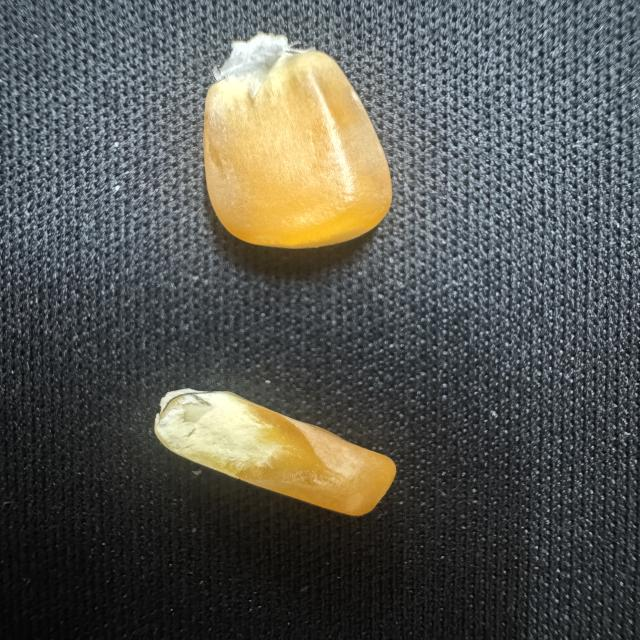Bad-Seed: (142, 382, 404, 524)
Good-Seed: (176, 29, 397, 255)
